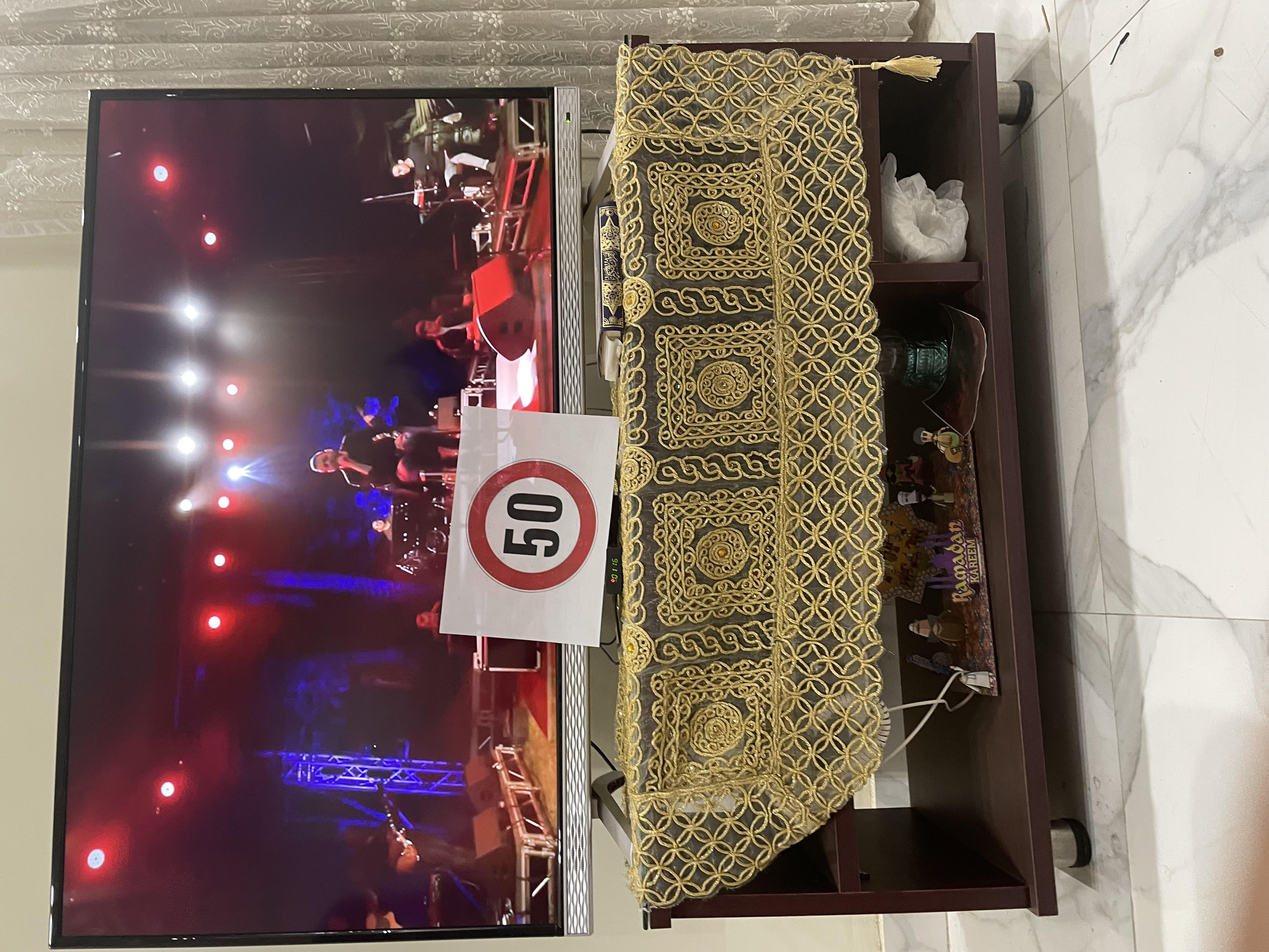50-Speed: (480, 349, 661, 448)
